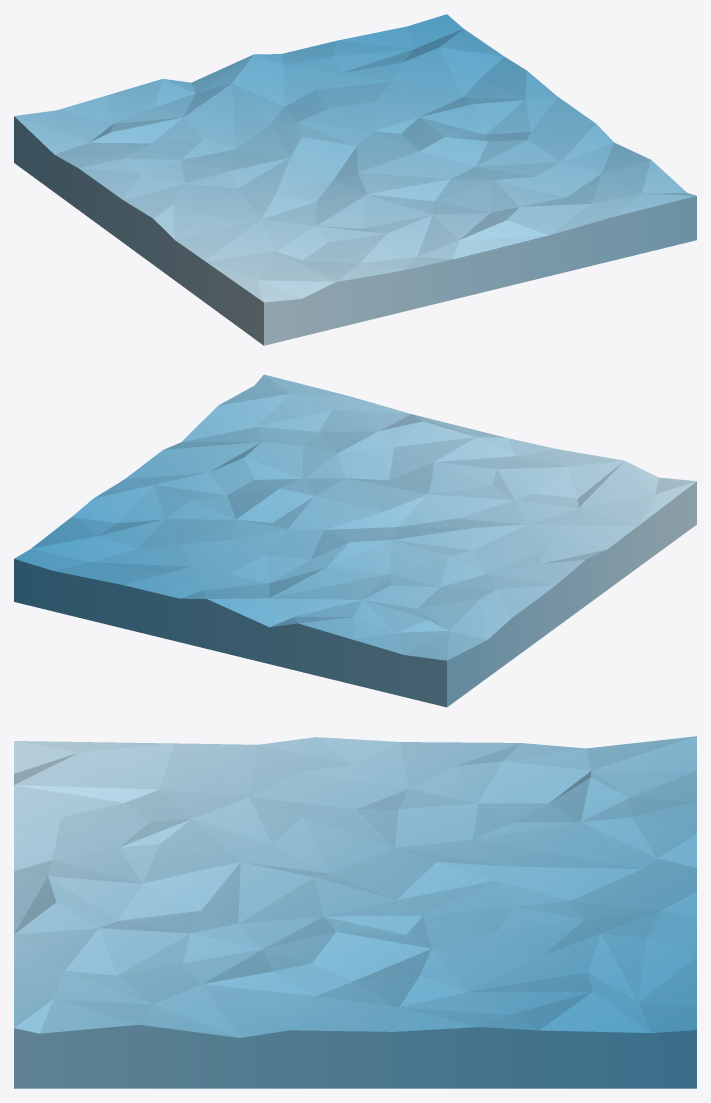
The model's file is water-location-ancient-artifacts.glb.
3 renders of one model, top to bottom at view 1: azimuth 30°, elevation 25°; view 2: azimuth 150°, elevation 25°; view 3: azimuth 270°, elevation 25°, orthographic. The views are drawn at different scales.
Visible parts, largest first — view 1: water location ancient artifacts; view 2: water location ancient artifacts; view 3: water location ancient artifacts.
Part boxes in pixels (x1=…): water location ancient artifacts: x1=14, y1=14, x2=696, y2=345; water location ancient artifacts: x1=14, y1=374, x2=696, y2=707; water location ancient artifacts: x1=14, y1=736, x2=696, y2=1088.
Size of the model in its own units: 45 by 5.1 by 45.
Materials: 1 (1 with a texture image).
